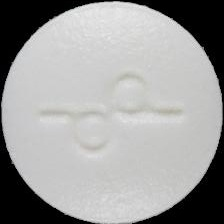54868-4742: (0, 0, 224, 224)
